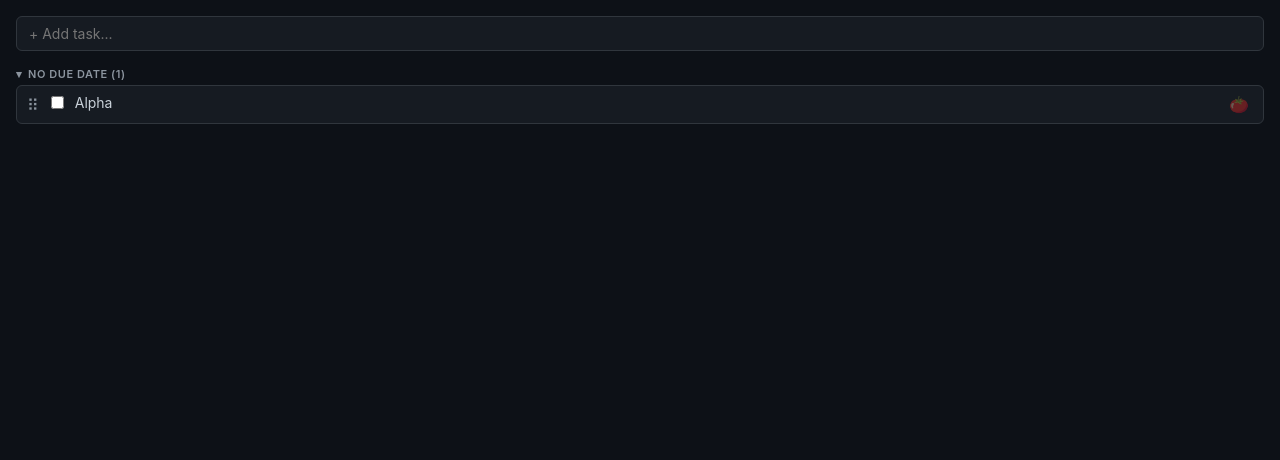
Scenario: closes detail panel when × clicked
The image size is (1280, 460).
What coordinates should you click on to do the following:
click the button "Alpha"
I would click on:
 (94, 102)
Its box is [75,94,112,111].
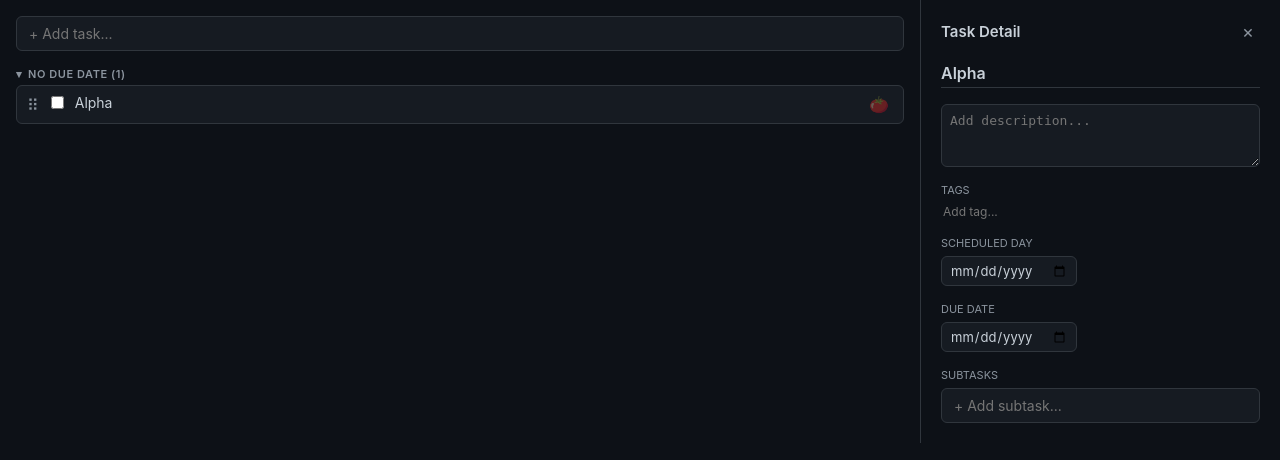
What coordinates should you click on to do the following:
click the button named "close"
I would click on:
 (1248, 32)
Its box is [1236,20,1260,43].
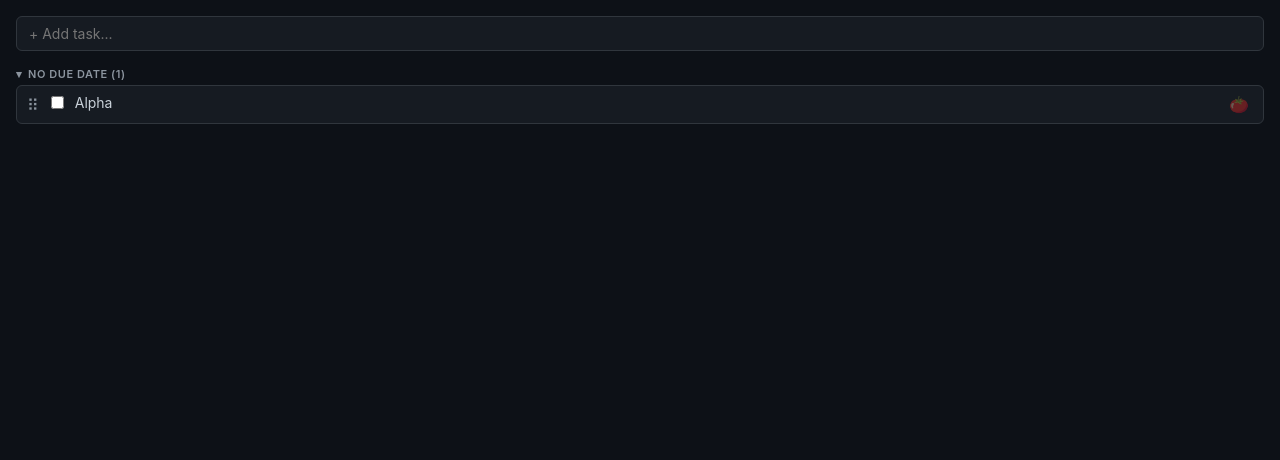
Expected: the text "Task Detail" is gone
